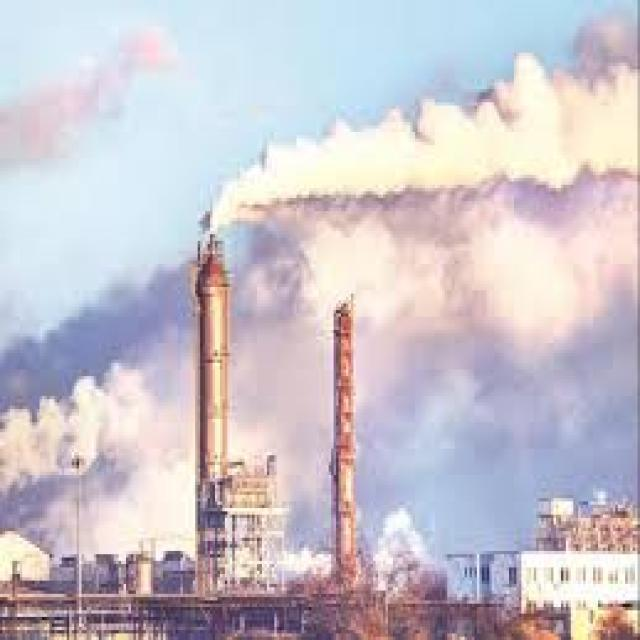Smoke: (202, 44, 640, 235)
